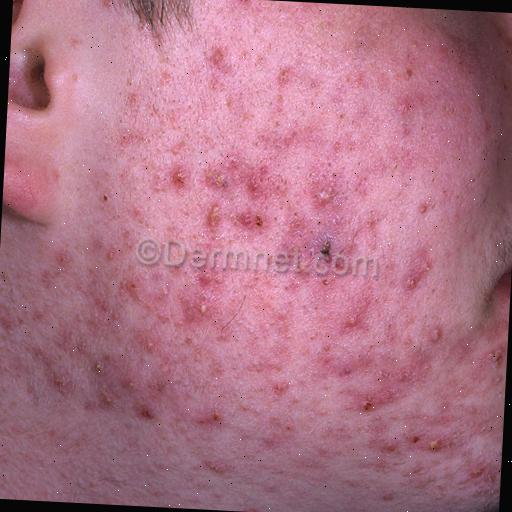Skin_Lesion: (92, 278, 186, 361), (202, 154, 285, 244), (89, 0, 198, 50), (48, 361, 118, 418), (340, 274, 376, 334), (306, 160, 341, 216), (194, 260, 230, 312), (400, 246, 434, 300), (408, 418, 456, 454), (467, 282, 499, 332), (313, 230, 343, 280), (352, 375, 382, 415), (164, 154, 191, 196), (0, 291, 22, 340), (195, 397, 226, 431), (207, 44, 231, 87), (261, 426, 296, 450), (487, 338, 508, 375), (266, 370, 292, 398), (135, 393, 158, 423), (204, 456, 233, 478), (429, 316, 447, 348), (379, 430, 401, 454), (226, 0, 257, 16), (104, 244, 124, 266), (54, 245, 72, 269)
